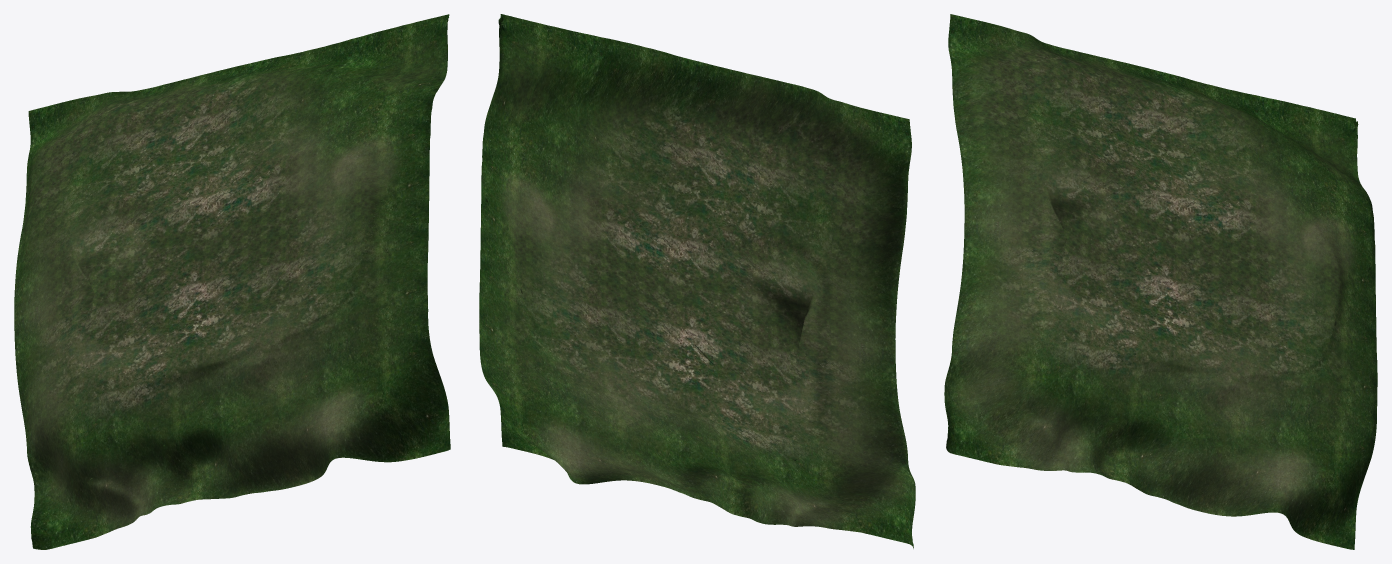
The model's file is TCKTerrain001A.obj.
3 renders of one model, left to right at view 1: azimuth 30°, elevation 25°; view 2: azimuth 150°, elevation 25°; view 3: azimuth 330°, elevation 25°, orthographic.
Visible parts, largest first — view 1: Terrain_Mesh_2_0; view 2: Terrain_Mesh_2_0; view 3: Terrain_Mesh_2_0.
Part boxes in pixels (x1,y1,x2,y2): Terrain_Mesh_2_0: [14, 14, 450, 549]; Terrain_Mesh_2_0: [479, 14, 915, 548]; Terrain_Mesh_2_0: [944, 14, 1377, 549].
Size of the model in its own units: 1 by 1 by 0.1461.
1 material, 1 textured.
